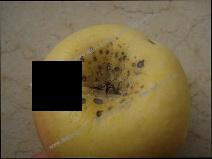rotten apple: (30, 23, 190, 158)
